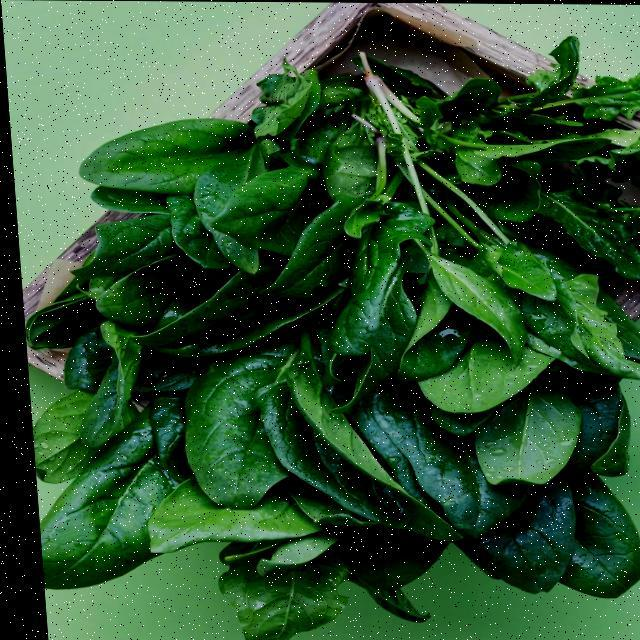Spinach: (2, 40, 640, 640)
